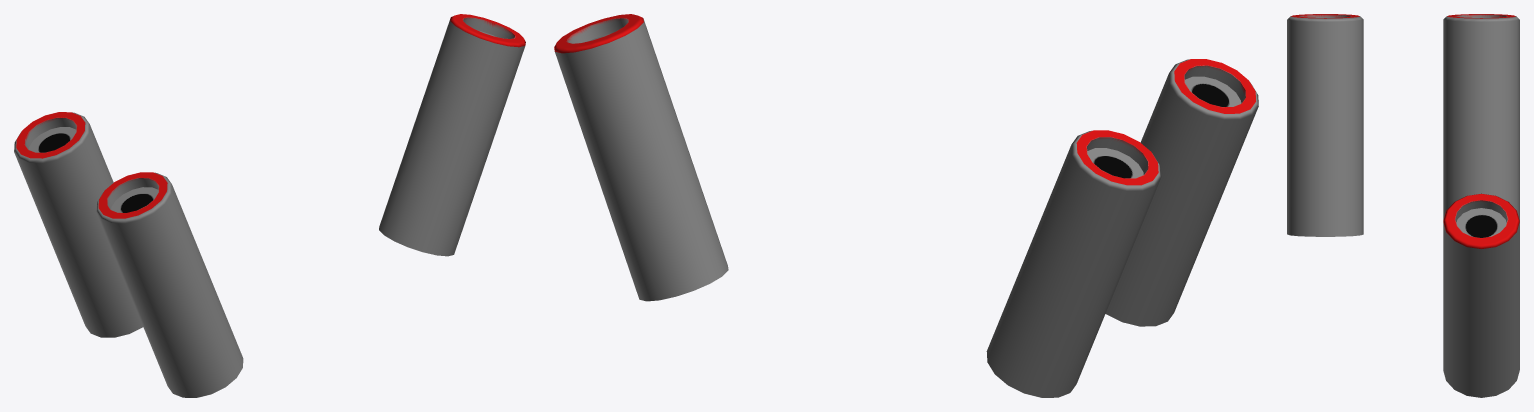
3 renders of one model, left to right at view 1: azimuth 30°, elevation 25°; view 2: azimuth 150°, elevation 25°; view 3: azimuth 270°, elevation 25°, orthographic. The views are drawn at different scales.
Parts seen in each view (by area): view 1: lifangti.006, lifangti.004, lifangti.005; view 2: lifangti.006, lifangti.005, lifangti.004; view 3: lifangti.004, lifangti.006, lifangti.005.
Part boxes in pixels (x1=…): lifangti.006: x1=379, y1=14, x2=525, y2=256; lifangti.004: x1=96, y1=172, x2=243, y2=397; lifangti.005: x1=14, y1=112, x2=142, y2=337; lifangti.006: x1=554, y1=14, x2=728, y2=301; lifangti.005: x1=986, y1=130, x2=1161, y2=397; lifangti.004: x1=1105, y1=59, x2=1258, y2=326; lifangti.004: x1=1287, y1=14, x2=1363, y2=236; lifangti.006: x1=1443, y1=193, x2=1519, y2=397; lifangti.005: x1=1443, y1=14, x2=1519, y2=220.
Size of the model in its own units: 27.96 by 11.73 by 11.85.
Materials: 1 (1 with a texture image).
